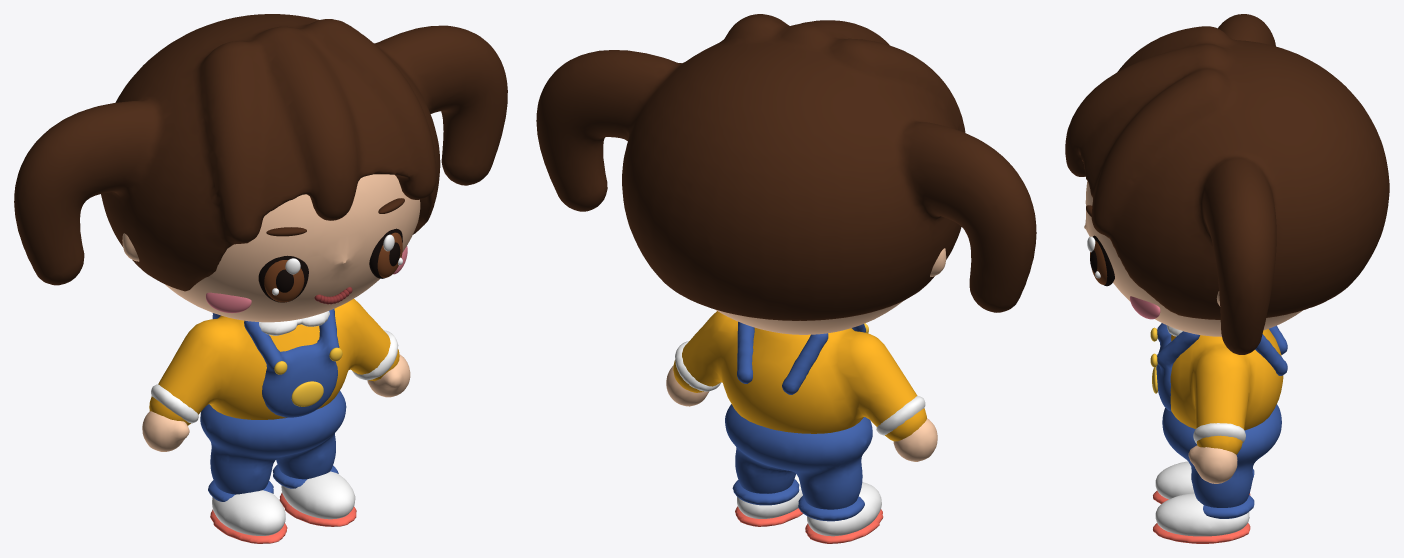
Rendered from kid.glb.
The picture shows the model from 3 angles, left to right: view 1: azimuth 30°, elevation 25°; view 2: azimuth 150°, elevation 25°; view 3: azimuth 270°, elevation 25°; orthographic projection. The views are drawn at different scales.
Visible parts, largest first — view 1: kid_hair, kid_head, kid_shirt, kid_pants, kid_shoes, kid_bib, kid_hands, kid_soles, kid_iris, kid_cuffs, kid_buttons, kid_eyes (+3 smaller); view 2: kid_hair, kid_shirt, kid_pants, kid_shoes, kid_bib, kid_head, kid_hands, kid_hems, kid_soles, kid_cuffs; view 3: kid_hair, kid_shirt, kid_pants, kid_shoes, kid_head, kid_bib, kid_hands, kid_soles, kid_cuffs, kid_hems, kid_blush.
Boxes of the visible parts, x1,y1,x2,y2 form: kid_hair: (14,14,507,291); kid_head: (122,174,420,322); kid_shirt: (149,298,399,425); kid_pants: (200,391,346,494); kid_shoes: (212,471,355,535); kid_bib: (212,309,339,417); kid_hands: (142,354,410,451); kid_soles: (210,493,356,543); kid_iris: (264,232,402,302); kid_cuffs: (151,330,398,423); kid_buttons: (274,347,342,406); kid_eyes: (258,228,402,302); kid_hair: (536,14,1036,320); kid_shirt: (673,311,926,441); kid_pants: (725,404,872,509); kid_shoes: (737,474,881,536); kid_bib: (737,321,865,394); kid_head: (715,248,946,334); kid_hands: (666,365,937,461); kid_hems: (732,479,864,521); kid_soles: (735,506,883,543); kid_cuffs: (675,341,925,435); kid_hair: (1065,14,1389,354); kid_shirt: (1170,329,1283,454); kid_pants: (1162,404,1281,507); kid_shoes: (1155,461,1249,536); kid_head: (1084,181,1302,336); kid_bib: (1156,323,1287,410); kid_hands: (1188,445,1237,483); kid_soles: (1153,491,1250,543); kid_cuffs: (1193,423,1245,443); kid_hems: (1203,469,1254,518); kid_blush: (1130,296,1160,319).
Bounding box in the file's own units: 1.1 × 1.05 × 0.6566.
